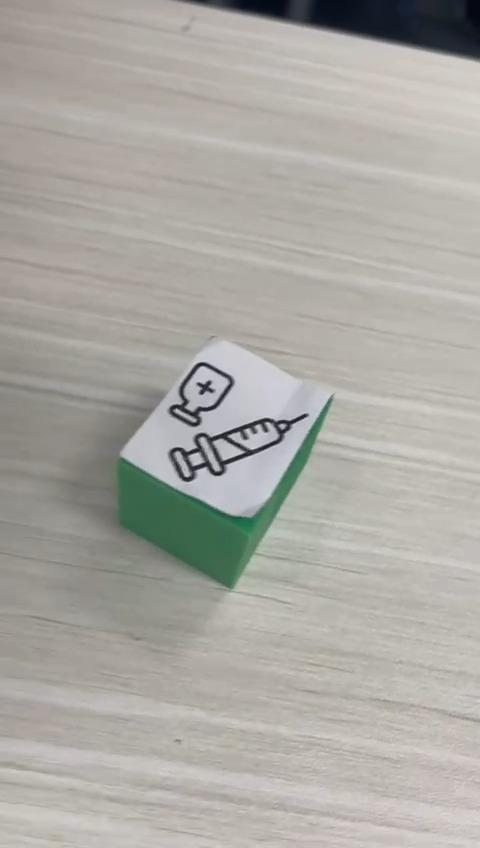antiseptic cream: (115, 333, 336, 589)
